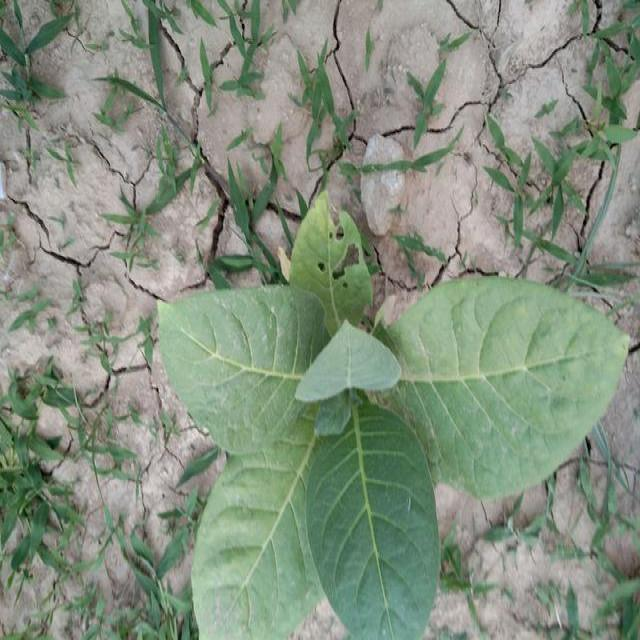crop: (159, 209, 634, 640)
